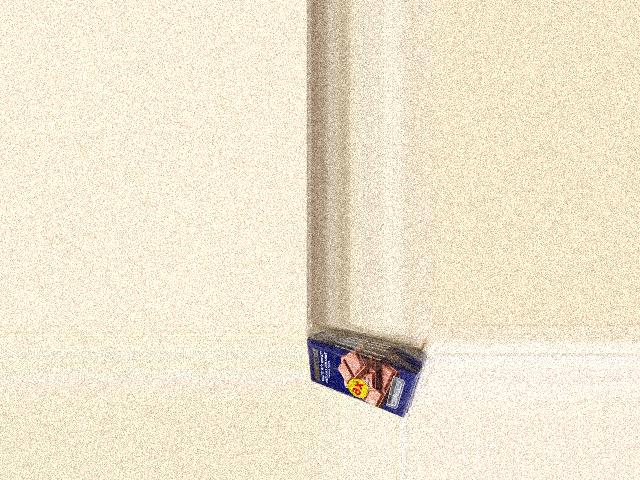chocolate: (306, 331, 418, 418)
